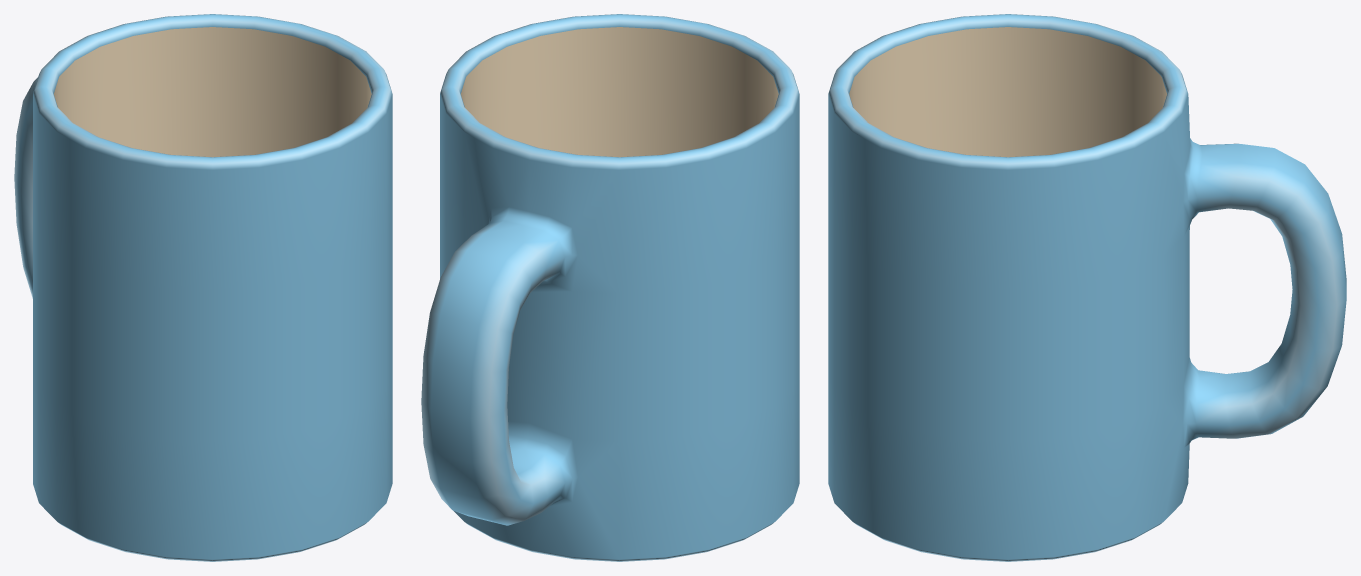
File: Cup_01.fbx
3 renders of one model, left to right at view 1: azimuth 30°, elevation 25°; view 2: azimuth 150°, elevation 25°; view 3: azimuth 270°, elevation 25°, orthographic.
Parts seen in each view (by area): view 1: Cup_01; view 2: Cup_01; view 3: Cup_01.
Boxes of the visible parts, box(x1,y1,x2,y2) form: Cup_01: box(14, 14, 392, 561); Cup_01: box(421, 14, 799, 561); Cup_01: box(828, 14, 1346, 561).
Bounding box in the file's own units: 8.01 × 9.96 × 11.55.
